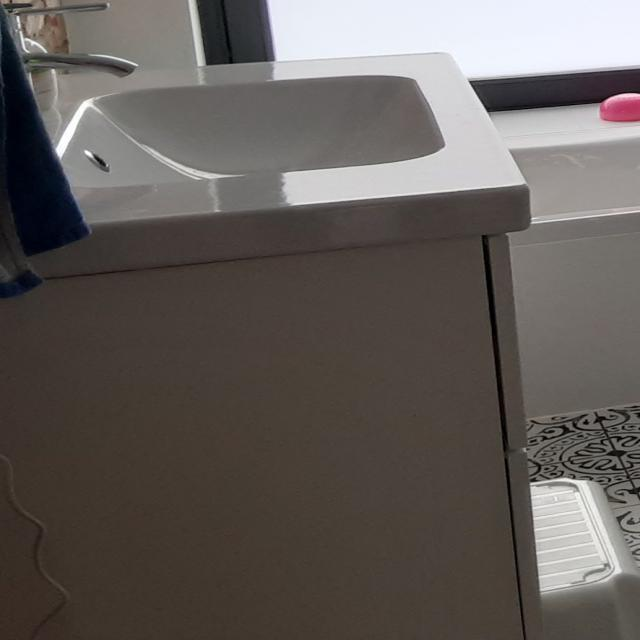bath: (486, 95, 640, 424)
wastafel: (0, 230, 552, 640), (0, 50, 535, 279)
